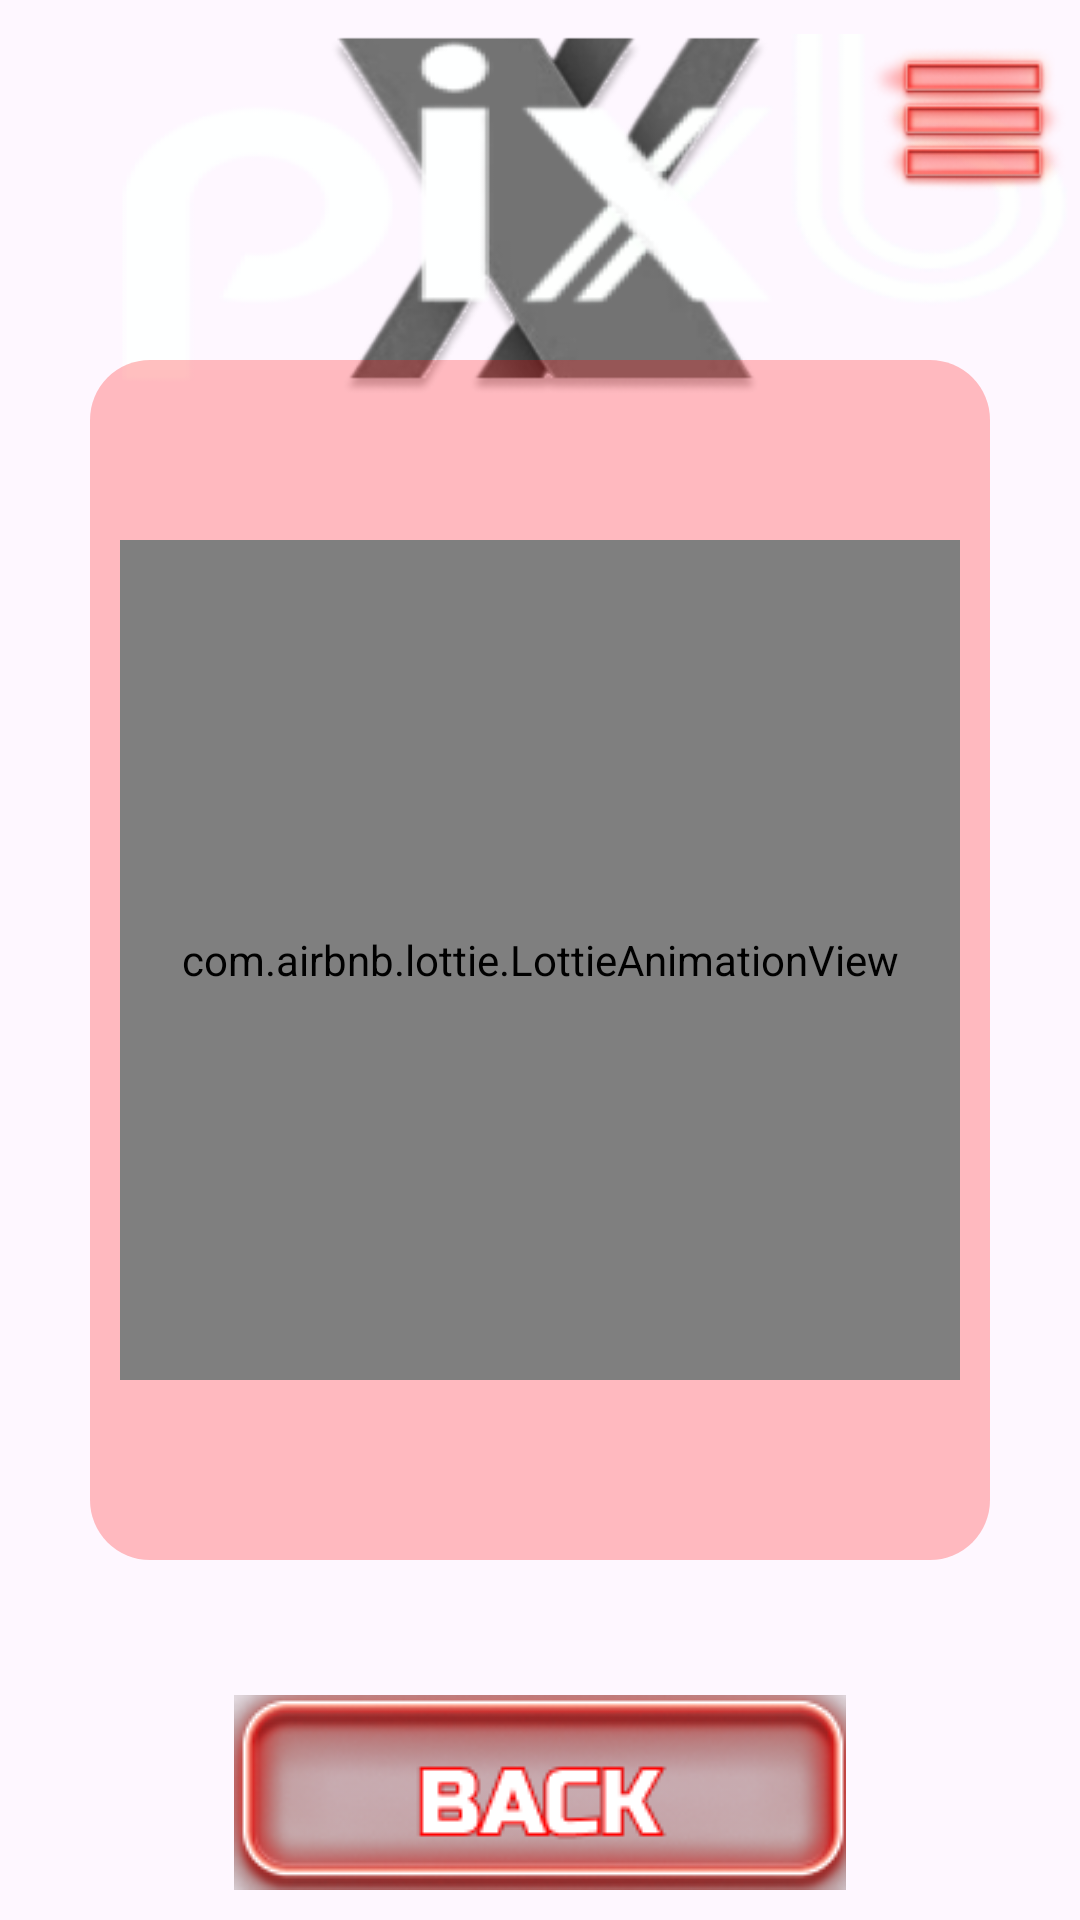

Locate icon controls on the screen. Image size 1080px×1920px, boxes as (x1, y1, x2, y2).
menu: (882, 55, 1053, 186)
